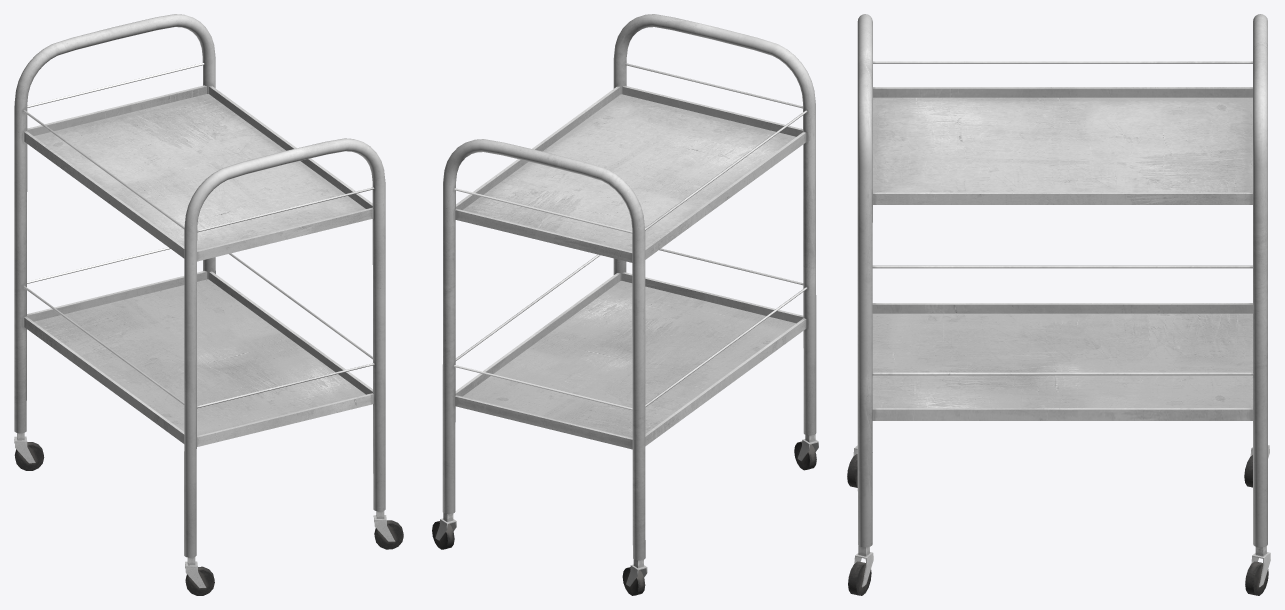
Rendered from Trolley.fbx.
3 views of the same model, side by side, from view 1: azimuth 30°, elevation 25°; view 2: azimuth 150°, elevation 25°; view 3: azimuth 270°, elevation 25° (orthographic). The views are drawn at different scales.
Parts seen in each view (by area): view 1: Trolley; view 2: Trolley; view 3: Trolley.
Part boxes in pixels (<box>): Trolley: <box>14,14,403,595</box>; Trolley: <box>432,14,818,595</box>; Trolley: <box>847,14,1270,595</box>.
Bounding box in the file's own units: 51.38 × 95.26 × 75.04.
